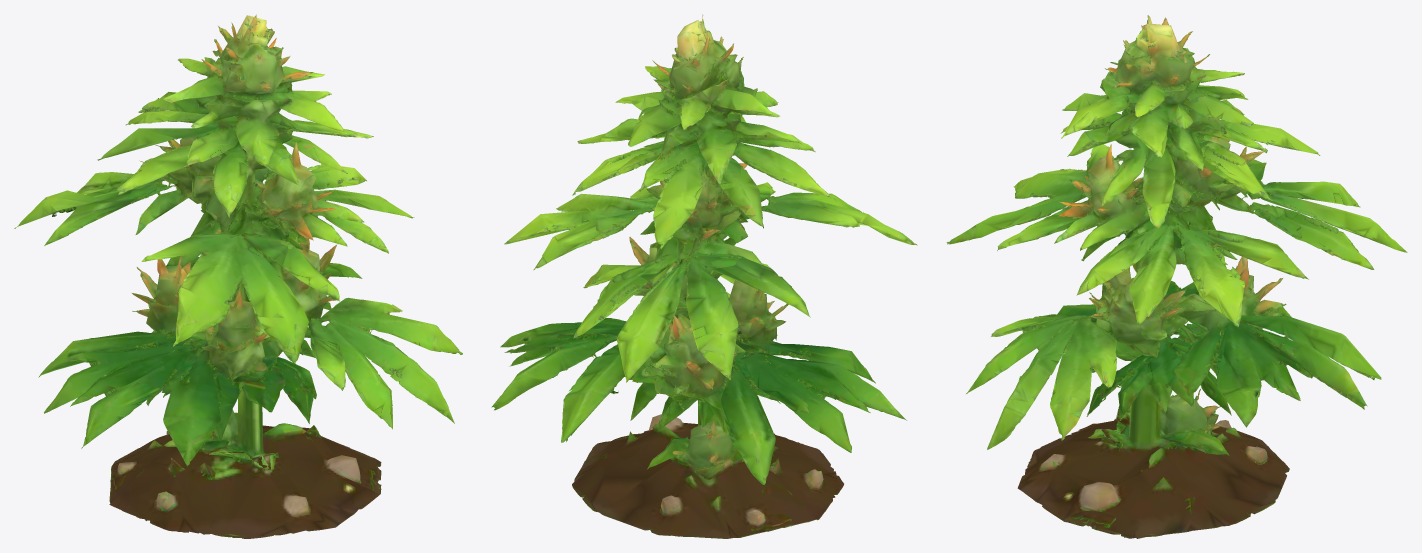
Rendered from canna_bloom.glb.
3 views of the same model, side by side, from view 1: azimuth 30°, elevation 25°; view 2: azimuth 150°, elevation 25°; view 3: azimuth 270°, elevation 25° (orthographic).
Visible parts, largest first — view 1: Mesh1.0; view 2: Mesh1.0; view 3: Mesh1.0.
Boxes of the visible parts, x1,y1,x2,y2 form: Mesh1.0: (14,14,462,538); Mesh1.0: (491,14,917,538); Mesh1.0: (946,15,1407,538).
Bounding box in the file's own units: 0.7851 × 0.9942 × 0.8875.
Materials: 1 (1 with a texture image).
